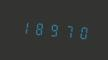eight: (32, 18, 45, 39)
nine: (46, 19, 59, 40)
one: (18, 16, 31, 37)
seven: (60, 20, 73, 41)
zero: (74, 21, 87, 42)
